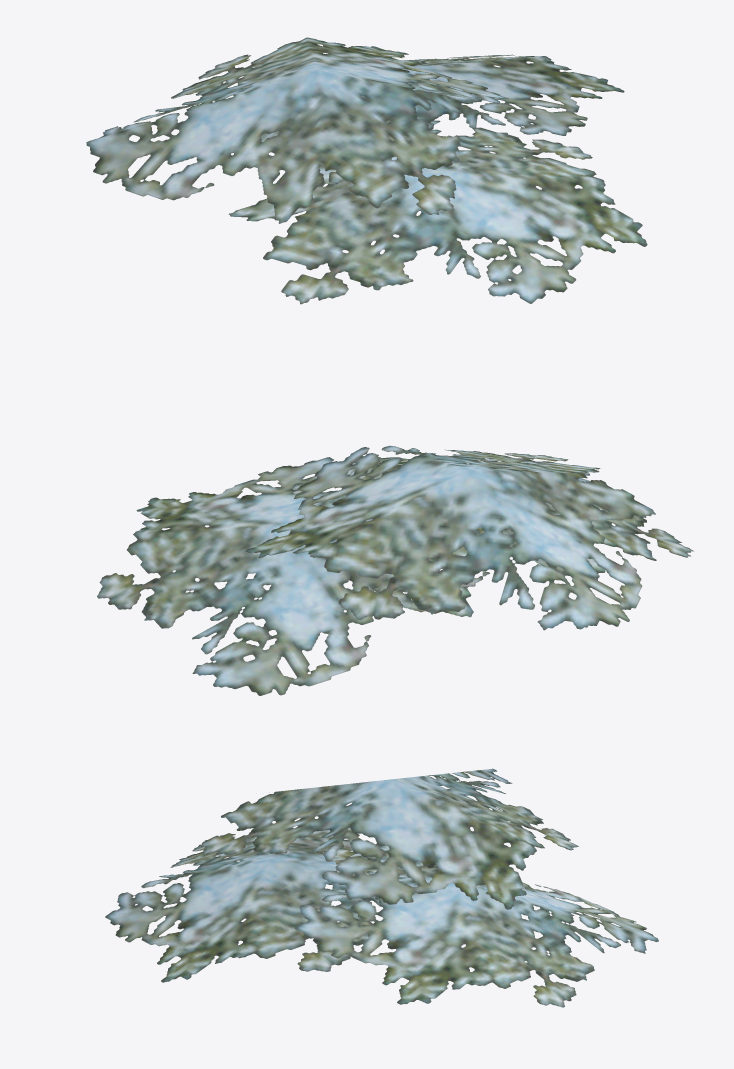
The model's file is Ice_glass06.FBX.
3 renders of one model, top to bottom at view 1: azimuth 30°, elevation 25°; view 2: azimuth 150°, elevation 25°; view 3: azimuth 270°, elevation 25°, orthographic. The views are drawn at different scales.
Visible parts, largest first — view 1: Plane028; view 2: Plane028; view 3: Plane028.
Part boxes in pixels (box(x1,y1,x2,y2)): Plane028: box(86, 37, 647, 304); Plane028: box(97, 445, 693, 695); Plane028: box(105, 768, 658, 1007).
Bounding box in the file's own units: 943 × 224 × 1048.
